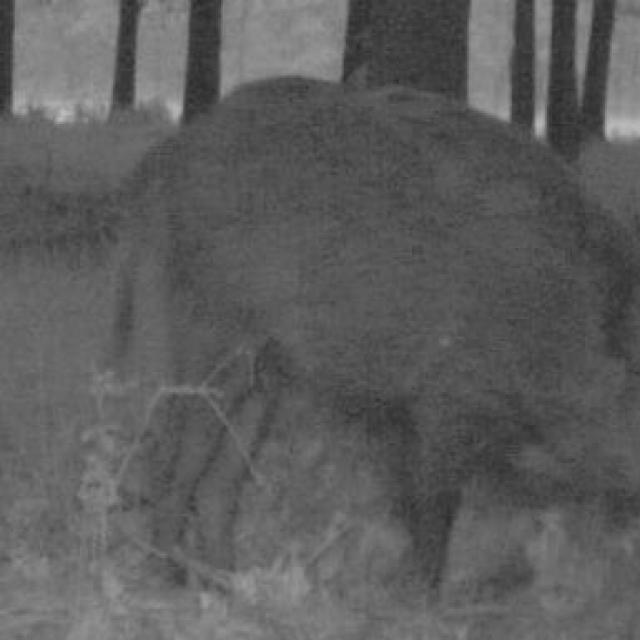pig: (58, 20, 640, 640)
